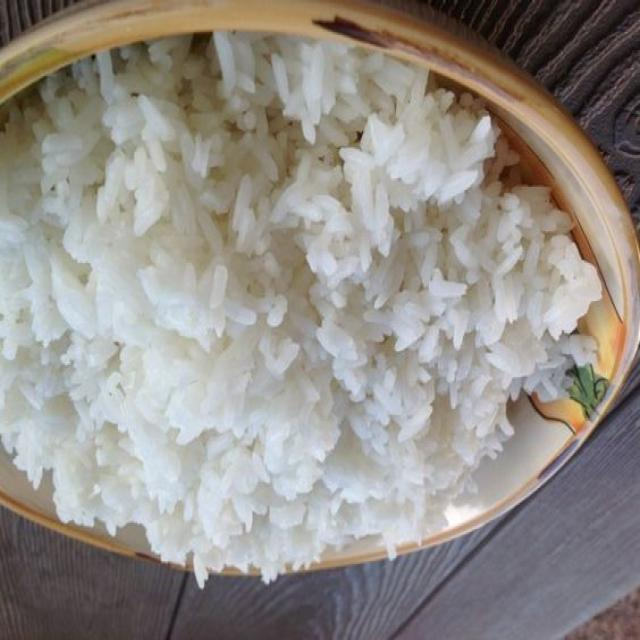nasi_putih: (12, 83, 544, 576)
